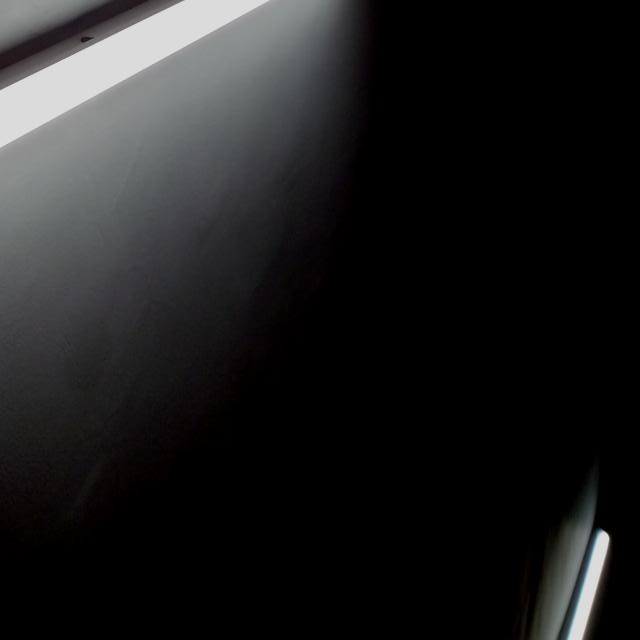fluorescent tube: (0, 0, 423, 257), (536, 496, 627, 640)
